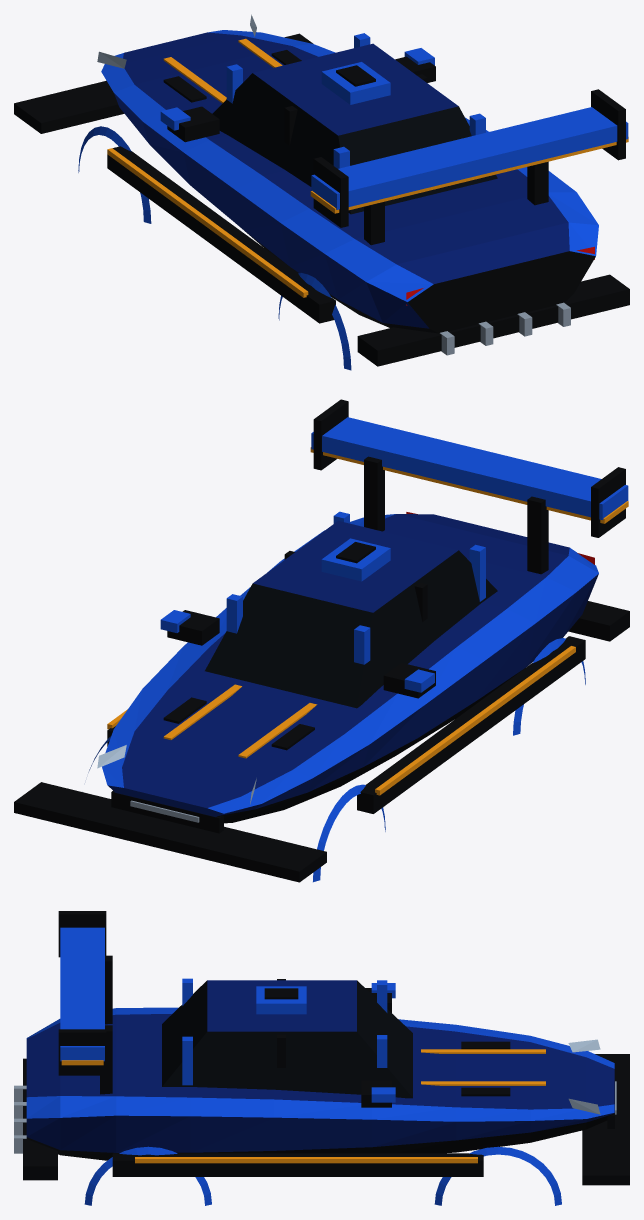
Rendered from APEX_GT3_Body.obj.
3 renders of one model, top to bottom at view 1: azimuth 30°, elevation 25°; view 2: azimuth 150°, elevation 25°; view 3: azimuth 270°, elevation 25°, orthographic. The views are drawn at different scales.
Size of the model in its own units: 2.12 by 1.44 by 4.4.
